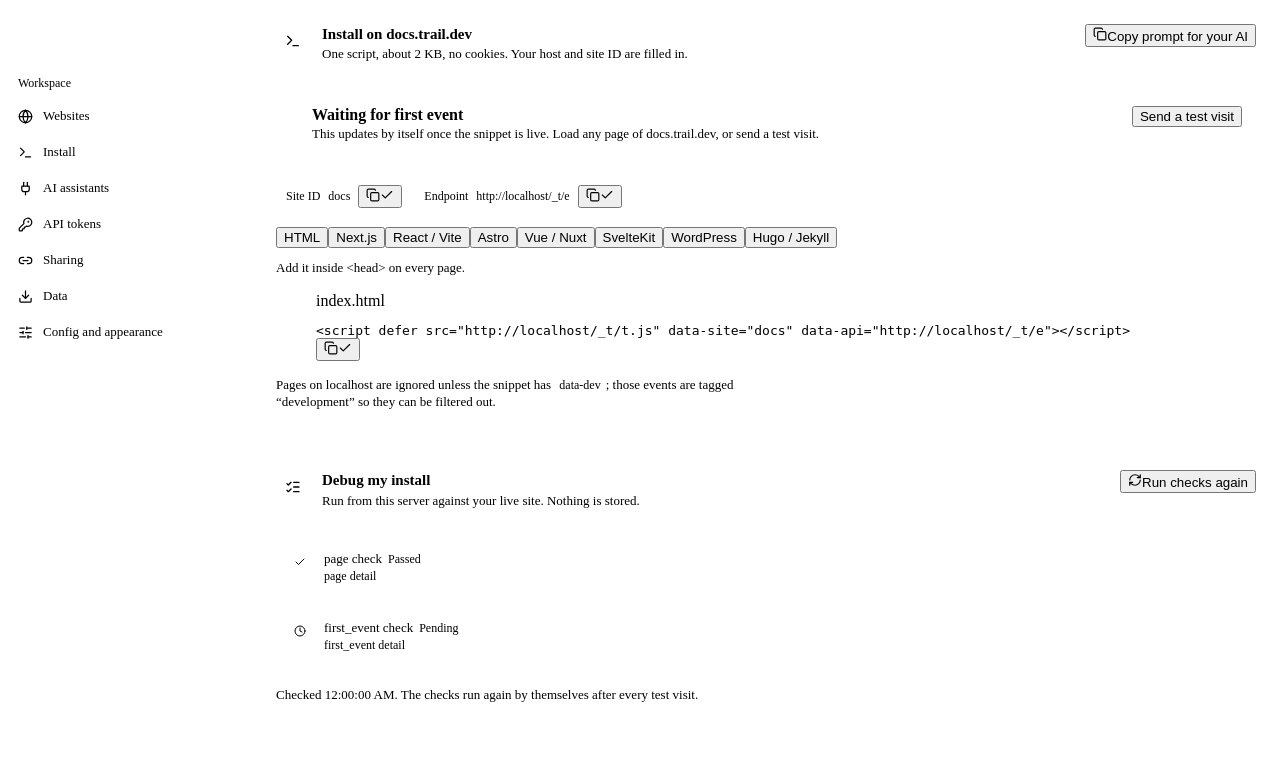
it: Install › the snippet carries the real site id for every framework
Later steps or results of the test are not shown.
Click the tab "HTML" at (302, 238), box [276,227,328,248]
Click the tab "Next.js" at (357, 238), box [328,227,385,248]
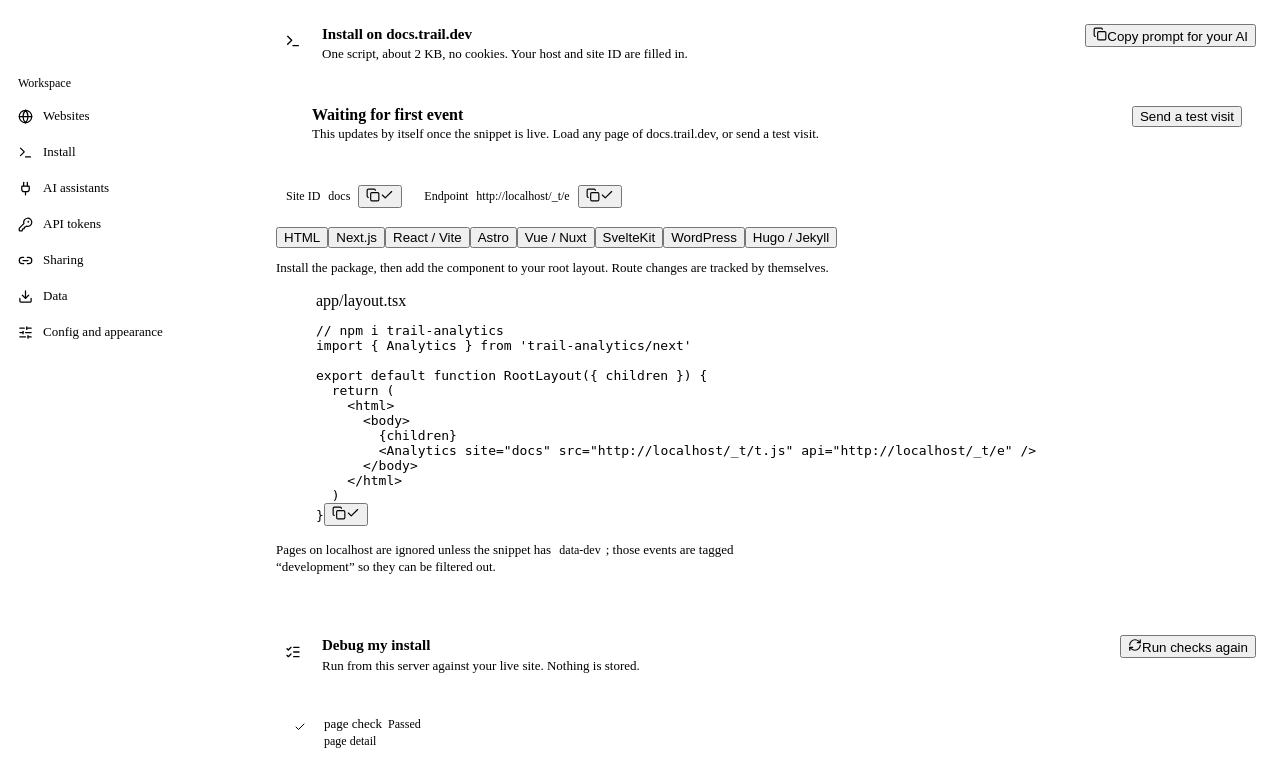
Now the text "// npm i trail-analytics" is shown, box [316,323,1036,523]
Click the tab "React / Vite" at (427, 238), box [385,227,470,248]
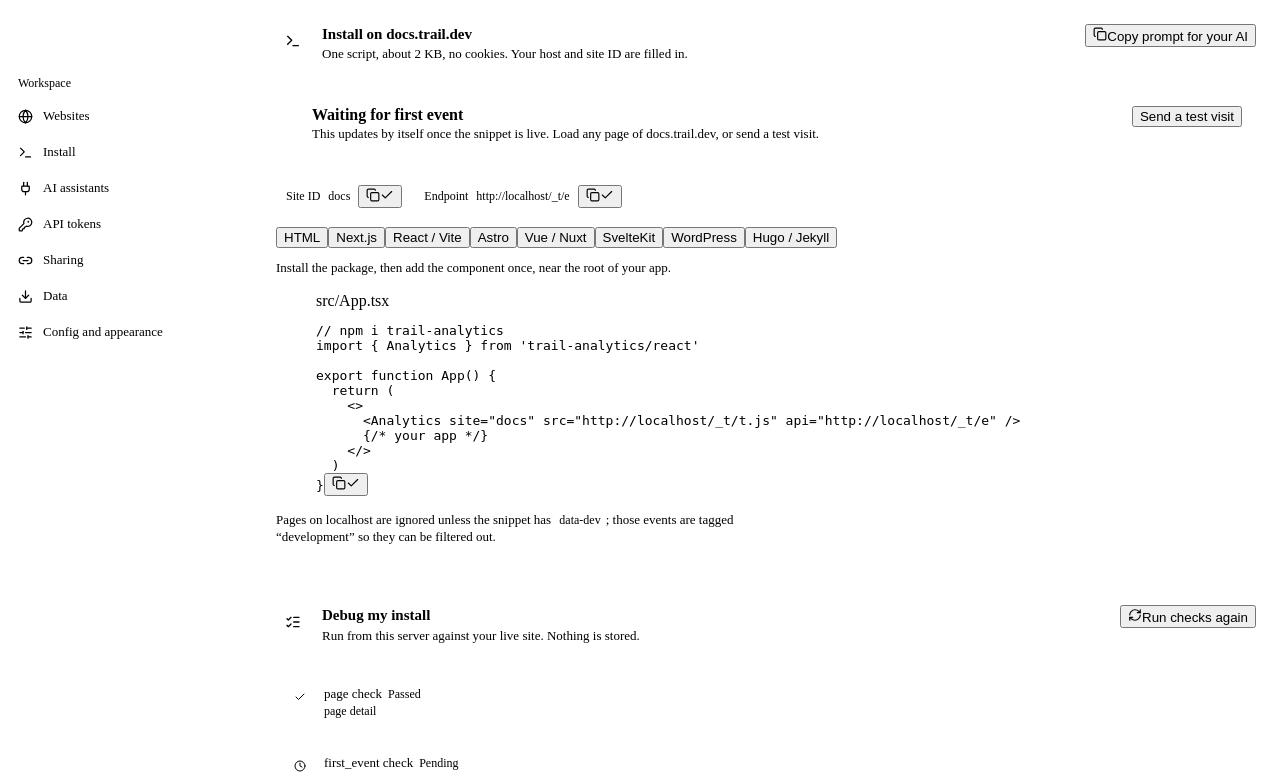
Now the text "// npm i trail-analytics" is shown, box [316,323,1020,493]
Click the tab "Astro" at (493, 238), box [470,227,517,248]
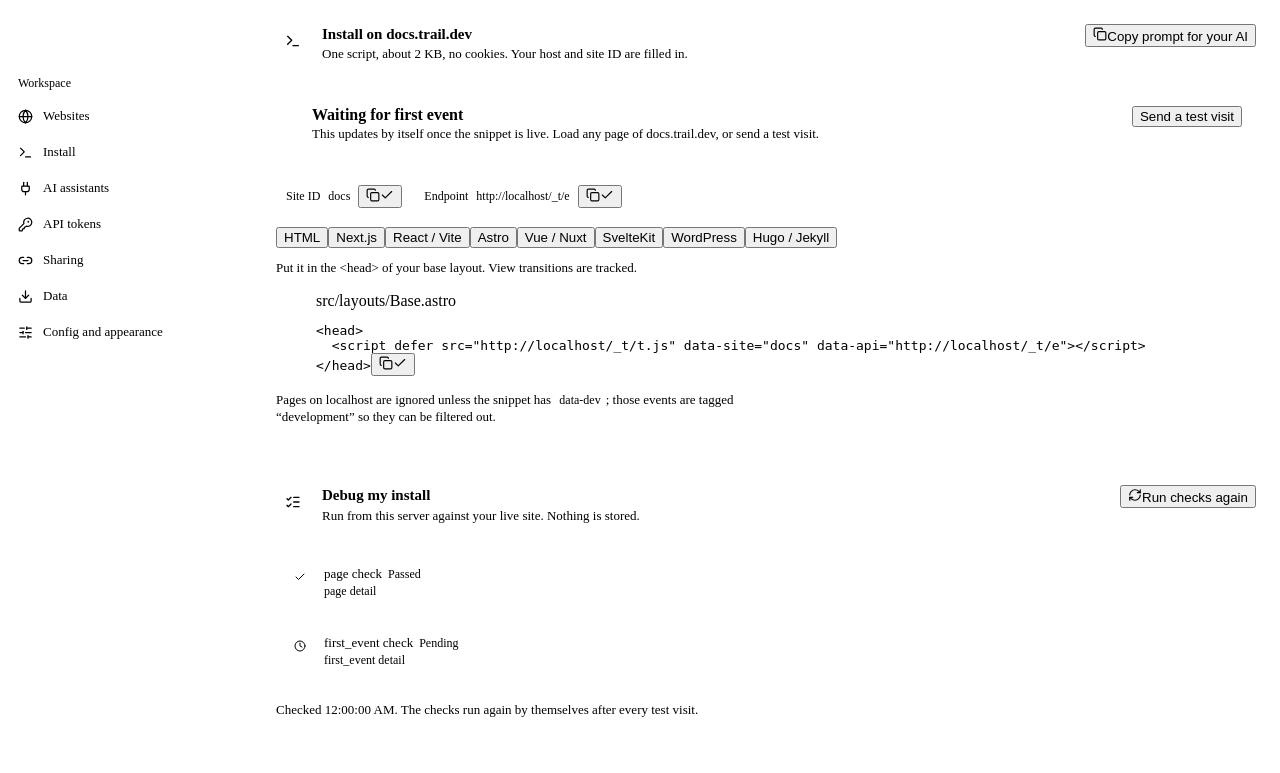
Click the tab "Vue / Nuxt" at (556, 238), box [517,227,594,248]
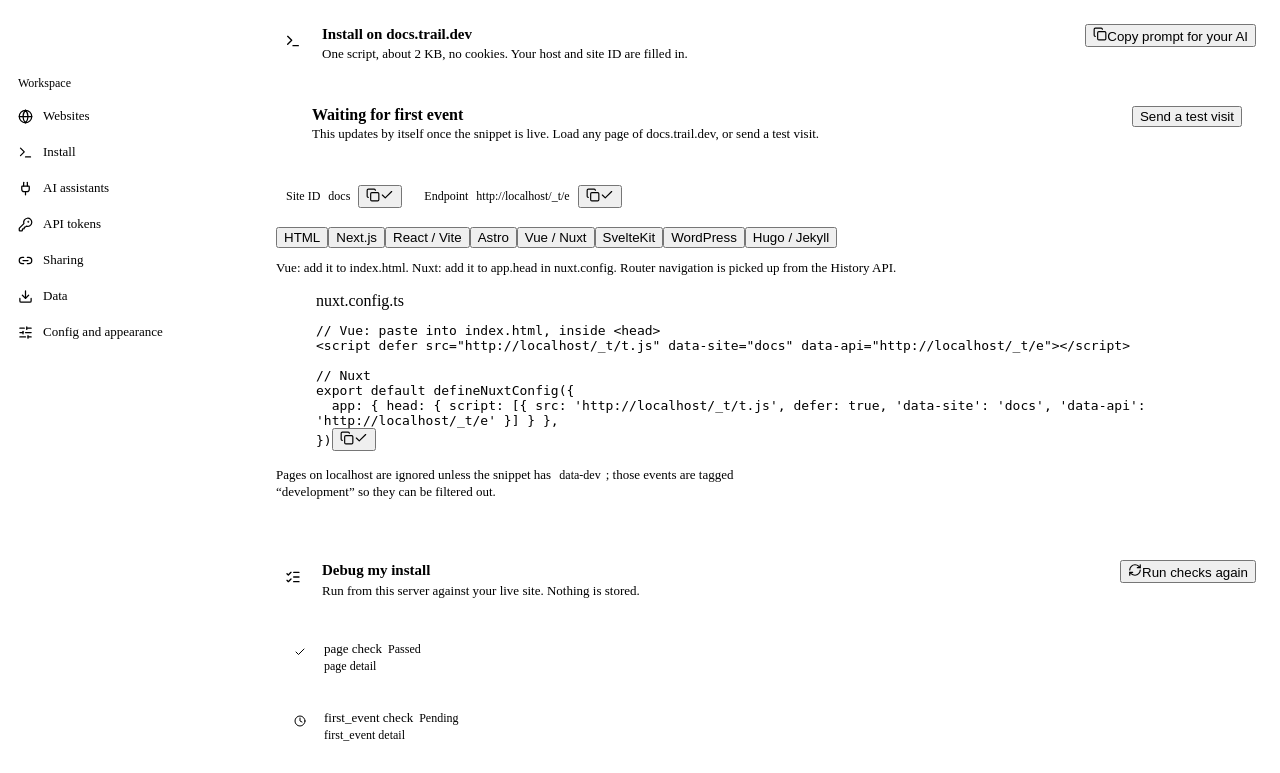
Click the tab "SvelteKit" at (629, 238), box [594,227,663,248]
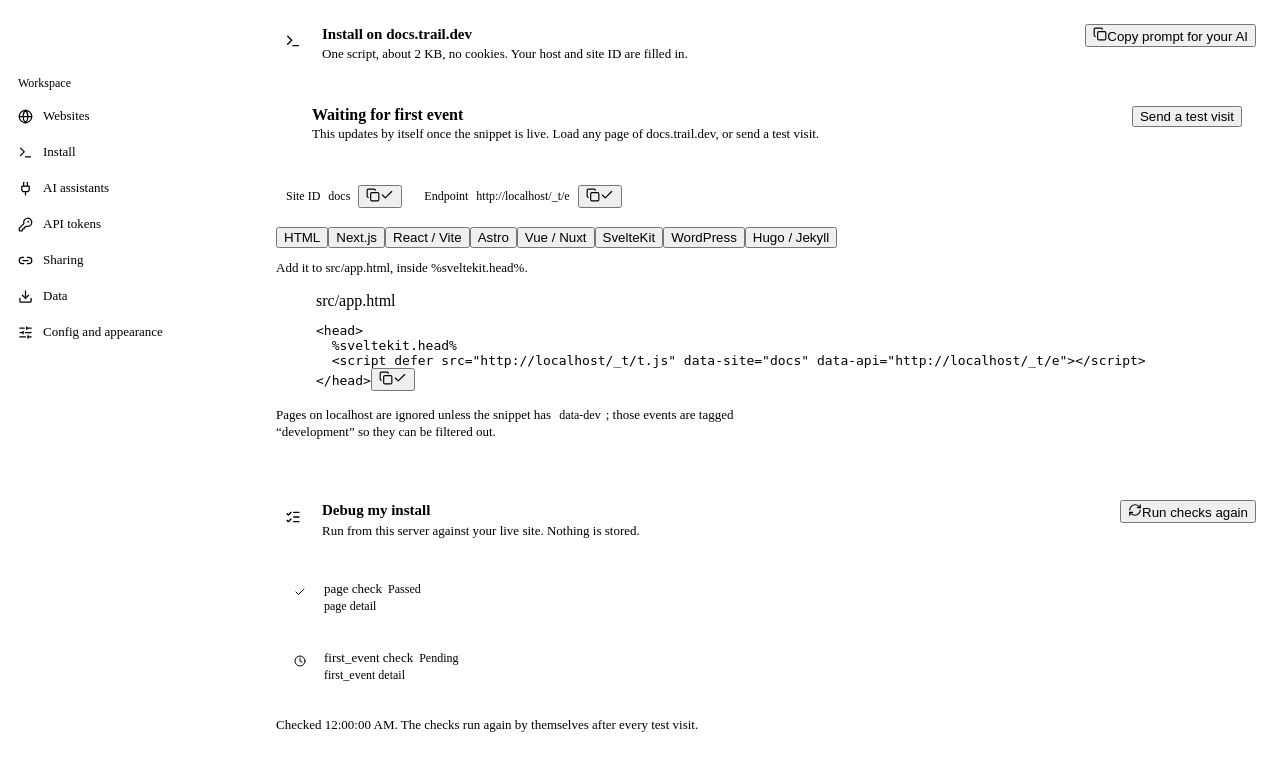
Click the tab "WordPress" at (704, 238), box [663,227,745,248]
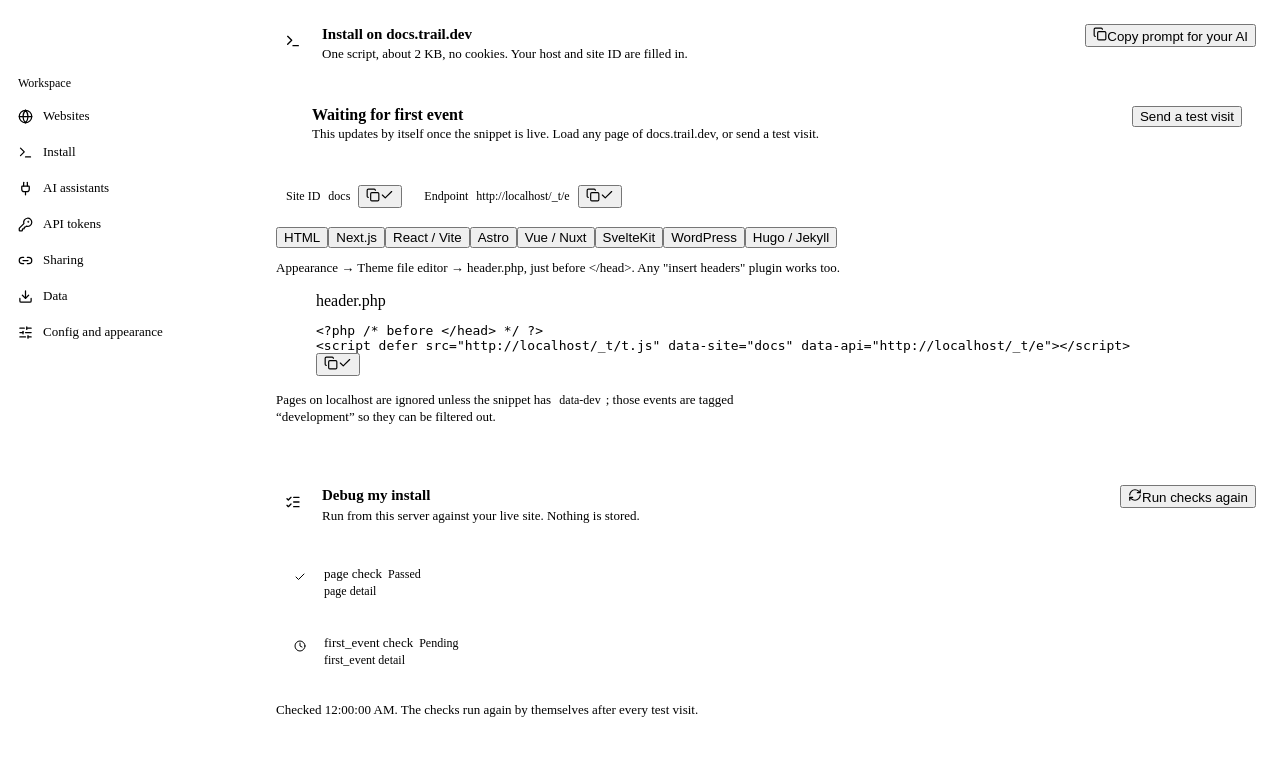
Now the text "<?php /* before </head> */ ?>" is shown, box [316,323,1130,353]
